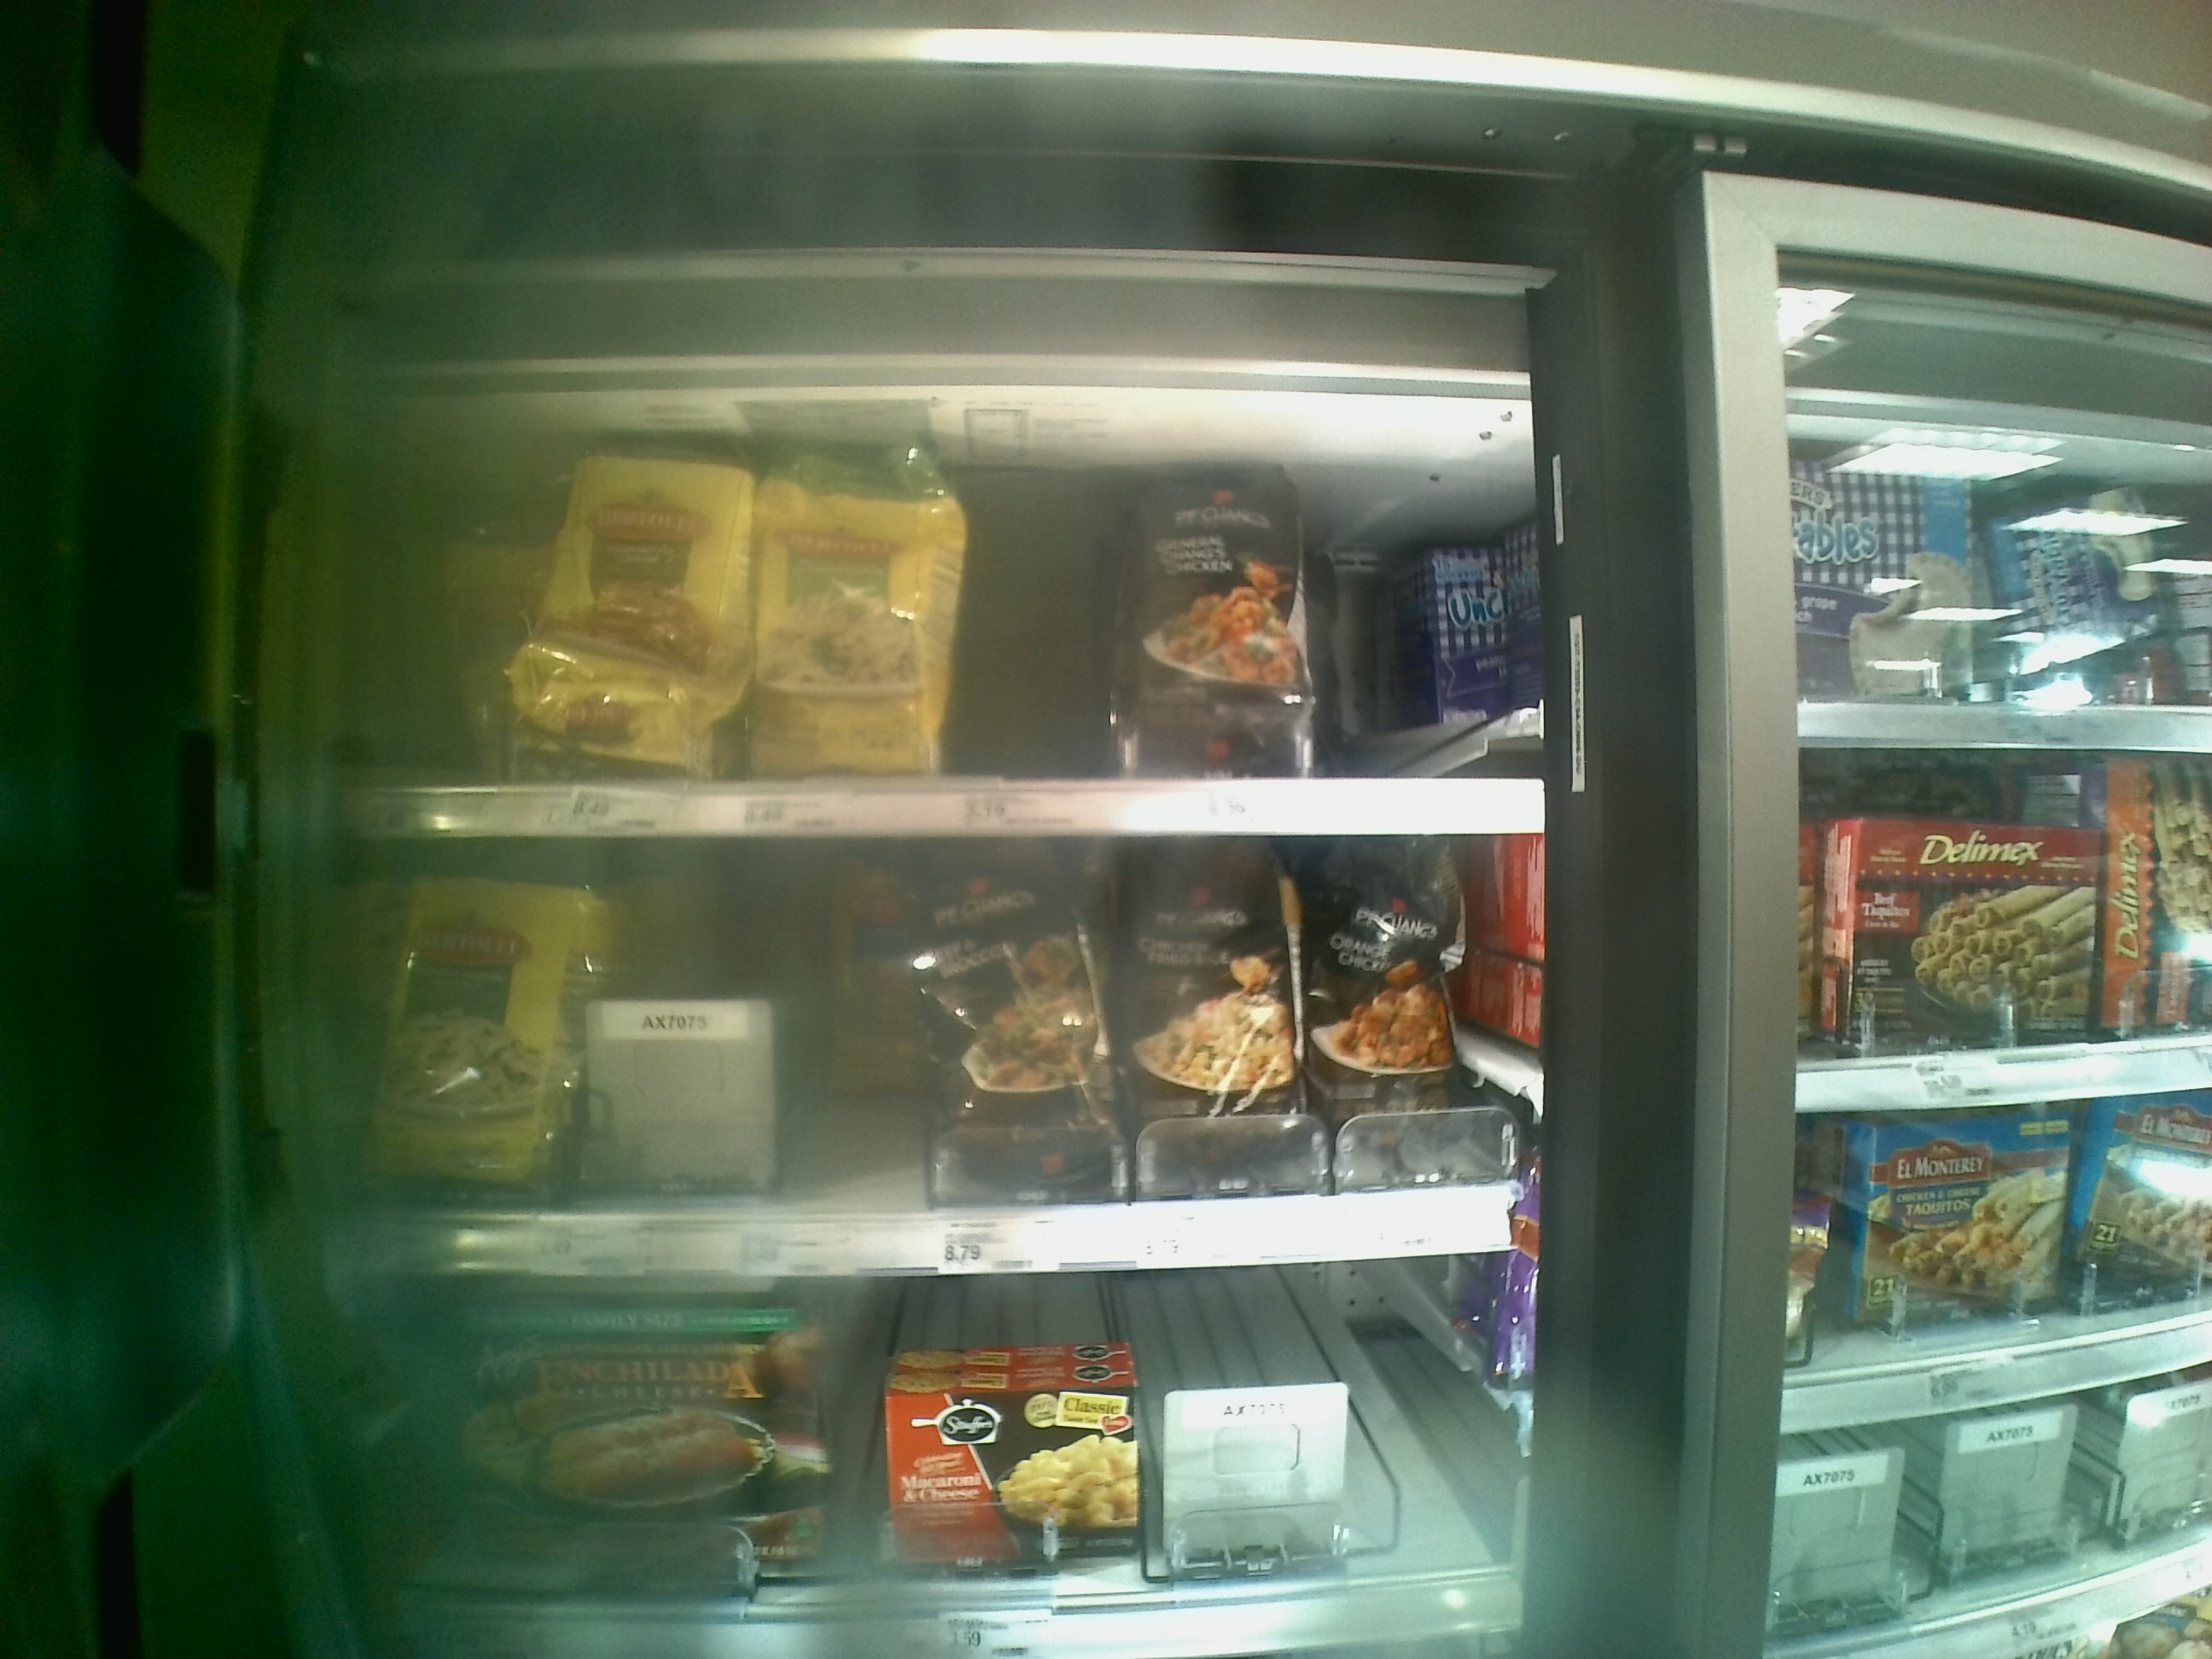shelf: (322, 390, 1540, 829), (322, 838, 1531, 1258), (378, 1272, 1527, 1659)
